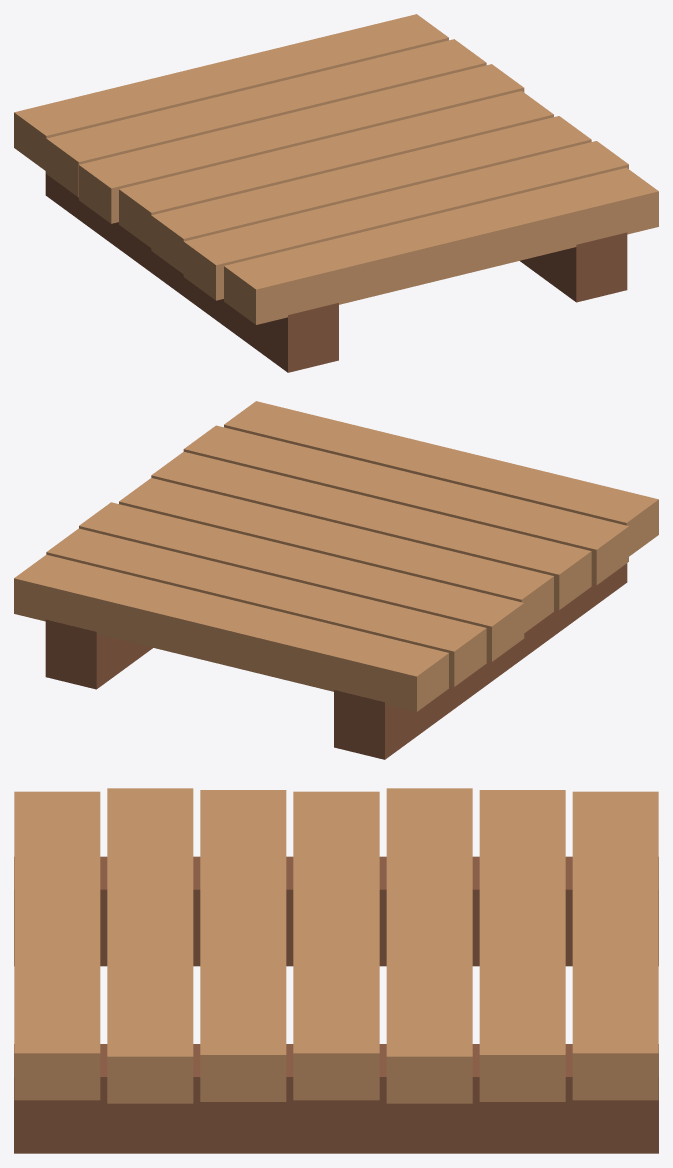
File: timber_footbridge.obj
The picture shows the model from 3 angles, top to bottom: view 1: azimuth 30°, elevation 25°; view 2: azimuth 150°, elevation 25°; view 3: azimuth 270°, elevation 25°; orthographic projection. The views are drawn at different scales.
Visible parts, largest first — view 1: TimberFootbridge; view 2: TimberFootbridge; view 3: TimberFootbridge.
Part boxes in pixels (x1,y1,x2,y2): TimberFootbridge: (14, 14, 658, 372); TimberFootbridge: (14, 401, 658, 759); TimberFootbridge: (14, 788, 658, 1153).
Bounding box in the file's own units: 0.974 × 0.205 × 0.99.
